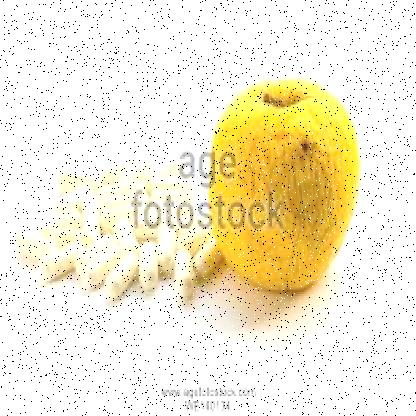damaged_apple: (209, 74, 359, 296)
